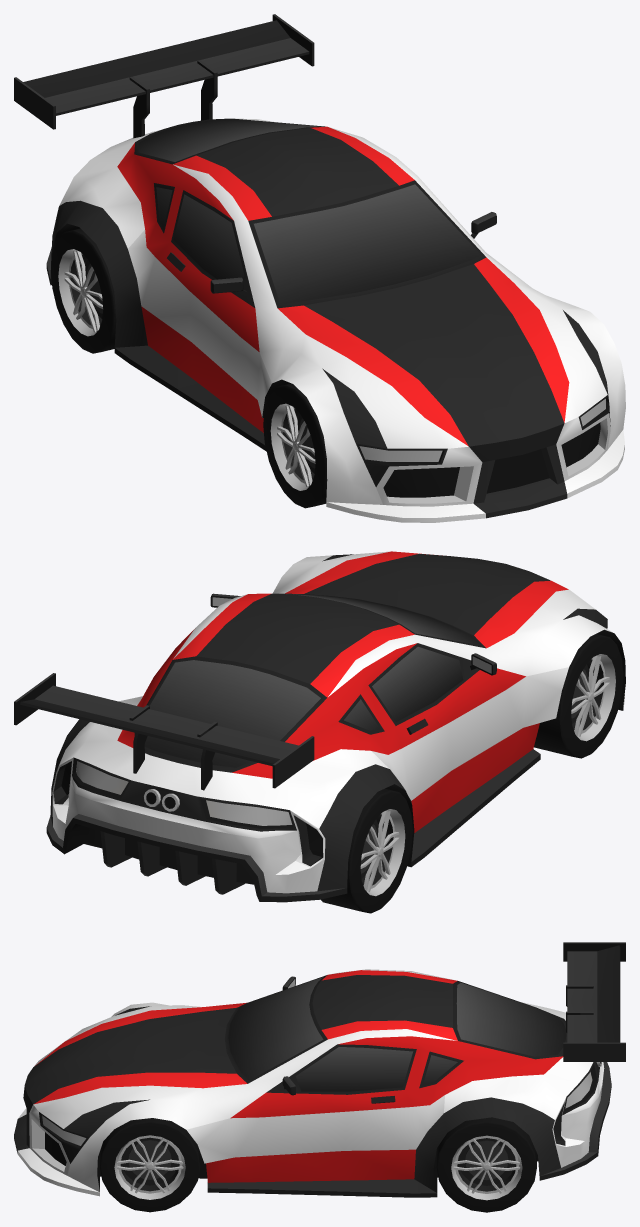
Rendered from PaoChe00_4.fbx.
3 views of the same model, one above another, from view 1: azimuth 30°, elevation 25°; view 2: azimuth 150°, elevation 25°; view 3: azimuth 270°, elevation 25° (orthographic). The views are drawn at different scales.
Visible parts, largest first — view 1: PaoChe00_4; view 2: PaoChe00_4; view 3: PaoChe00_4.
Part boxes in pixels (box(x1,y1,x2,y2)): PaoChe00_4: box(14, 14, 625, 522); PaoChe00_4: box(14, 551, 625, 913); PaoChe00_4: box(14, 942, 625, 1212).
Size of the model in its own units: 317 by 204 by 698.
